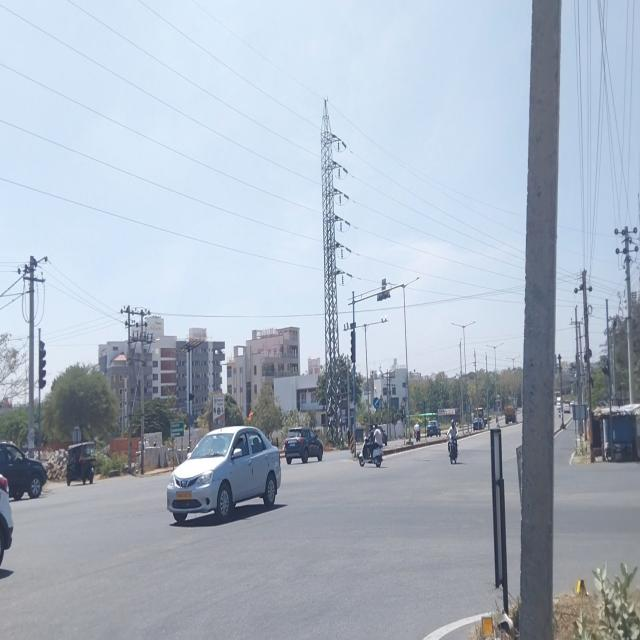bien_cam: (372, 395, 381, 411)
